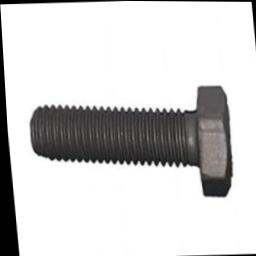Non-corroded-Bolts: (28, 86, 232, 198)
